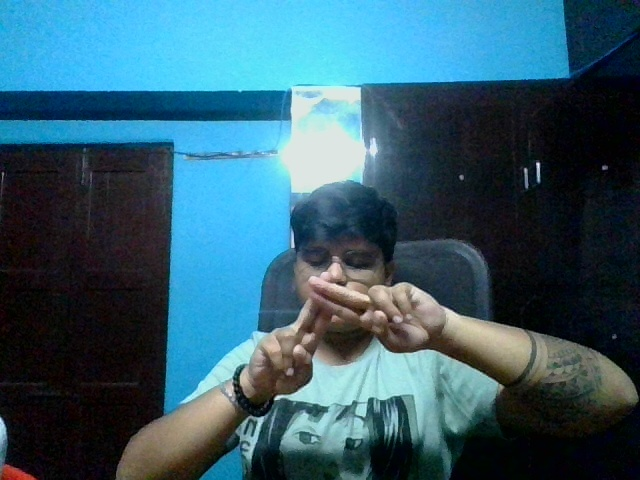F: (241, 272, 451, 408)
